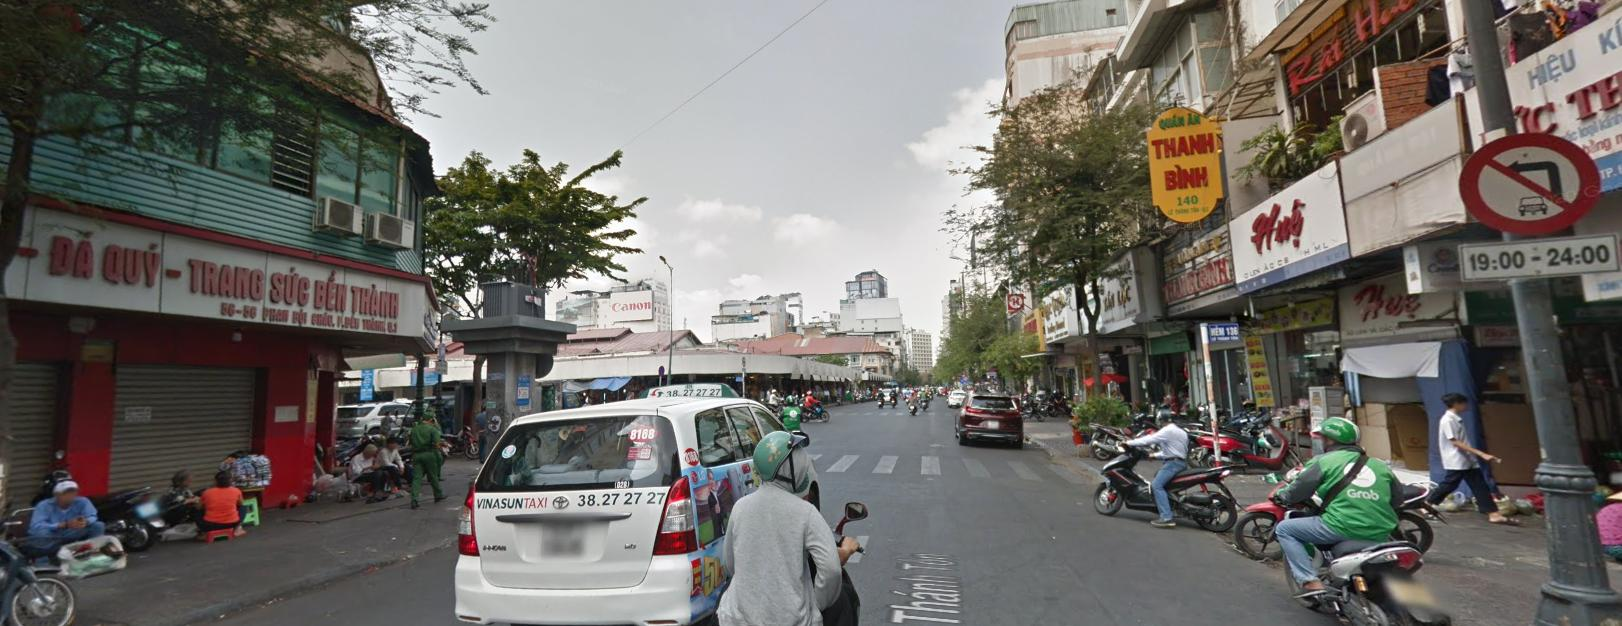Cam dung va do: (982, 357, 999, 370)
Cam re: (1439, 127, 1605, 236)
